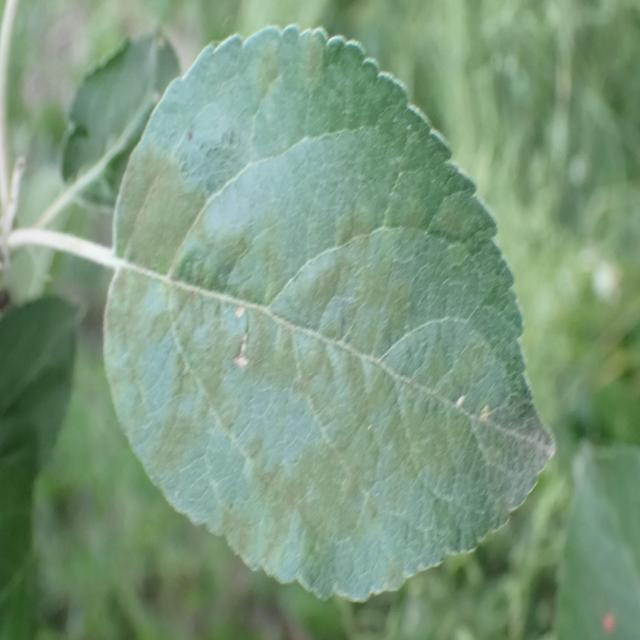scab: (86, 137, 530, 574), (218, 6, 392, 135)
